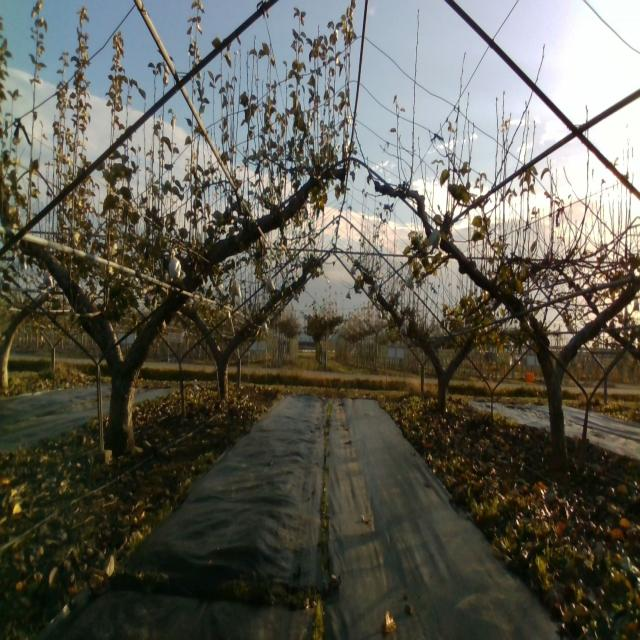pearbags: (424, 226, 441, 252), (168, 255, 181, 278), (229, 277, 242, 298)
